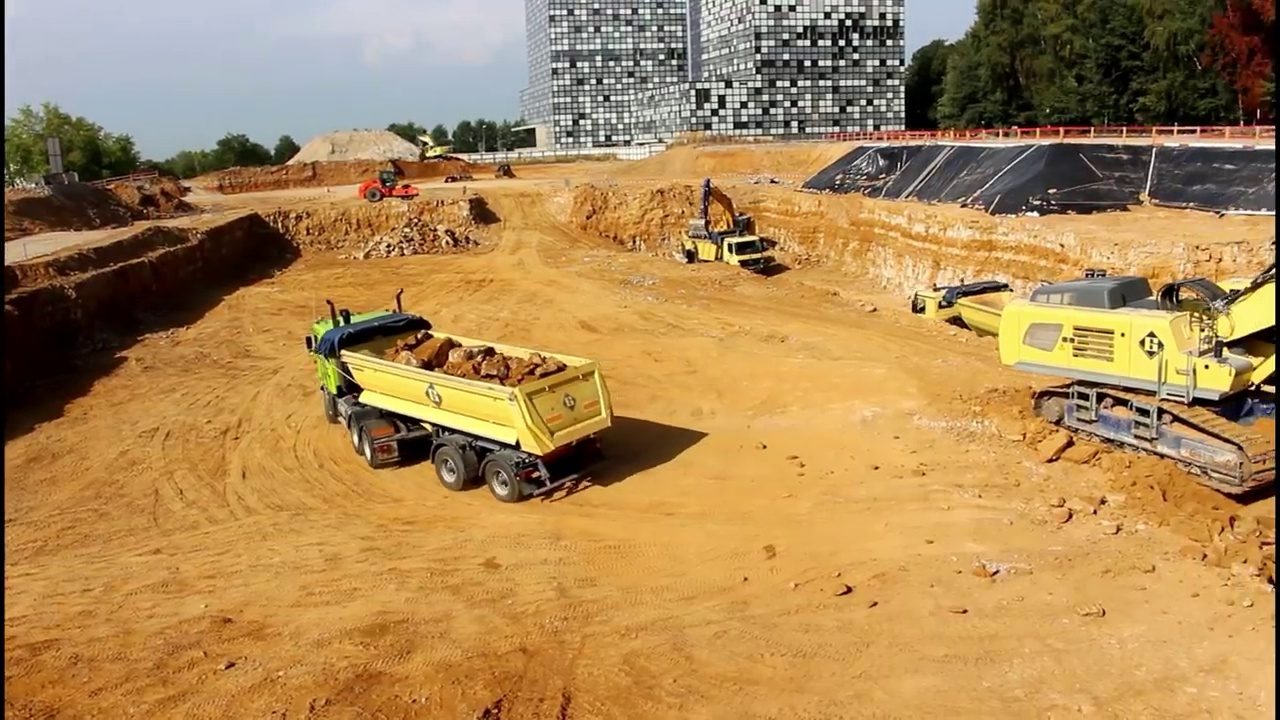compactor: (358, 169, 422, 203)
excavator: (995, 254, 1280, 504), (681, 176, 764, 261), (678, 224, 769, 278), (410, 128, 458, 167)
truck: (303, 285, 620, 509), (906, 274, 1112, 382)
